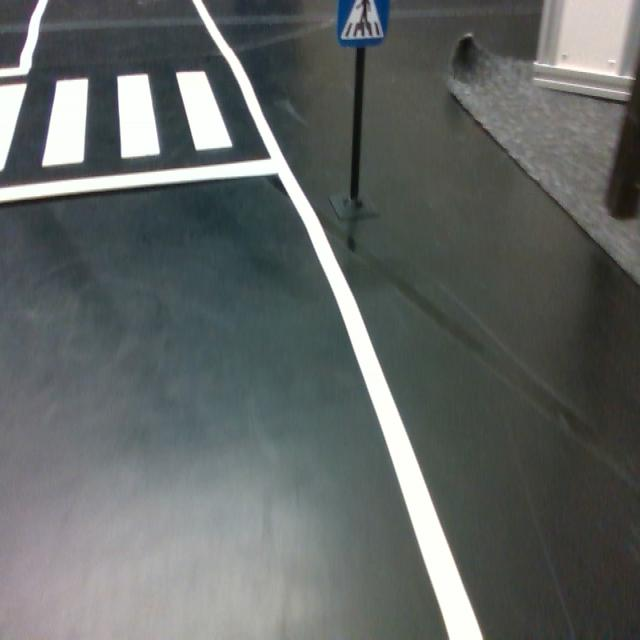crosswalk-sign: (336, 0, 390, 47)
